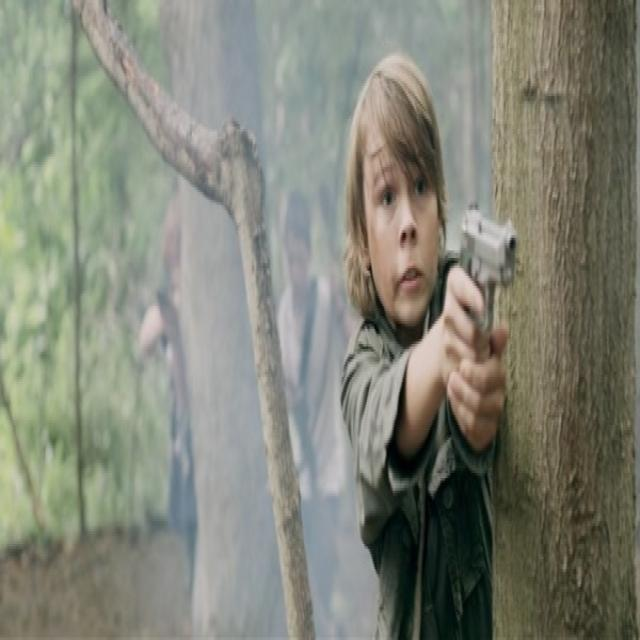weapons: (453, 179, 525, 463)
